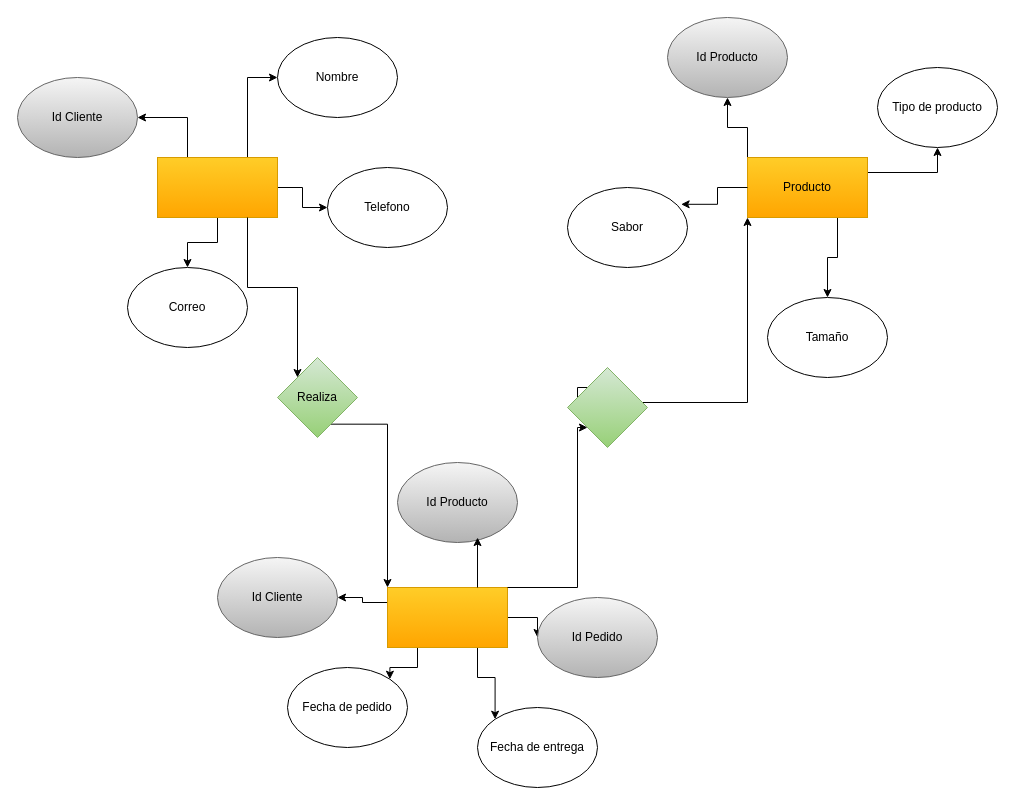
The diagram is 1015 pixels wide and 805 high, and some of its shapes have lost their labels. The box of each missing label's shape, as (x1, y1, x2, y2) in pixels:
Cliente: (156, 156, 278, 218)
Incluye: (566, 366, 648, 448)
Pedido: (386, 586, 508, 648)
